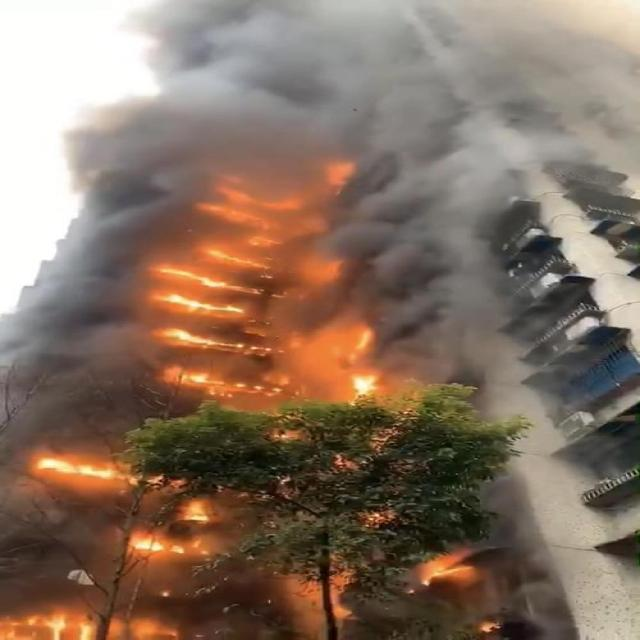Fire: (154, 245, 268, 319), (160, 326, 228, 385), (334, 328, 384, 396), (34, 452, 114, 484), (38, 611, 96, 640)
Smoke: (60, 1, 640, 171)
